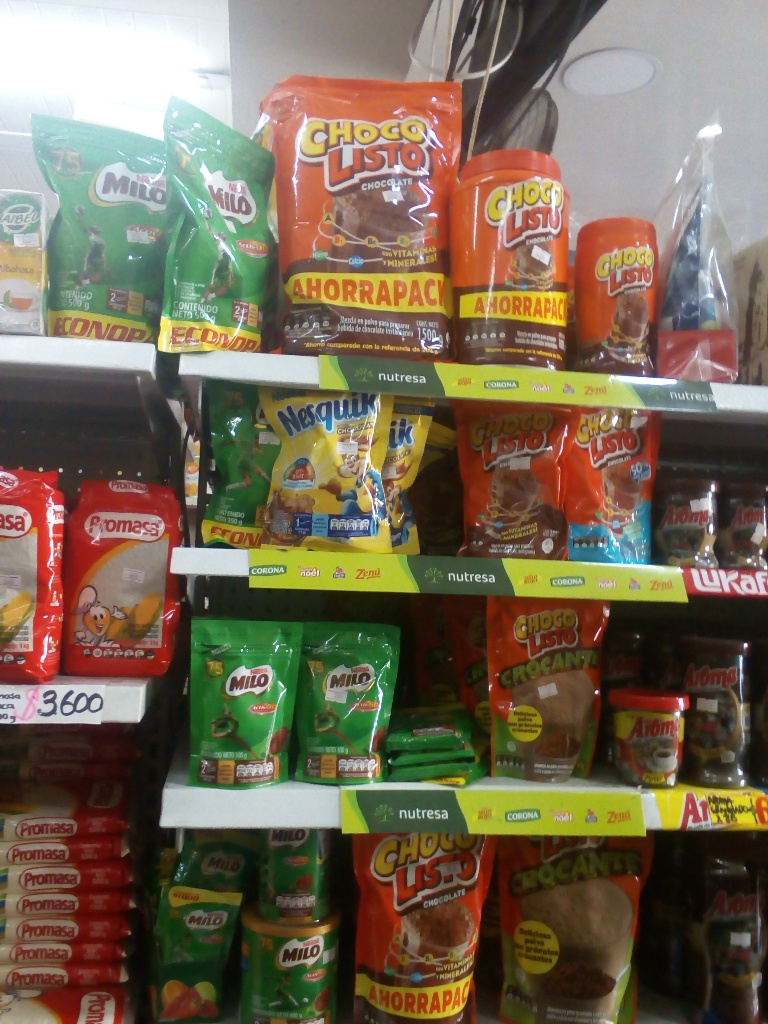COL0170103DYP44000: (346, 826, 497, 1023)
COL0170103TRR00100: (445, 146, 578, 370)
COL0170104DYP20000: (566, 404, 663, 566)
COL0170203DYP10000: (187, 611, 299, 784)
COL0170203LAT20000: (254, 819, 333, 923)
COL0170203LAT40000: (243, 905, 340, 1021)
COL0170303DYP20000: (258, 378, 393, 548)
